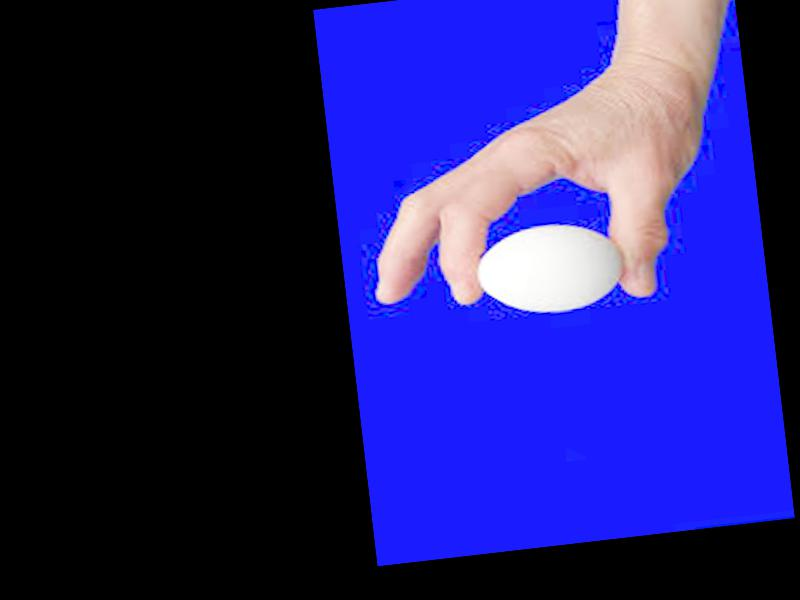Eggs: (470, 217, 626, 319)
